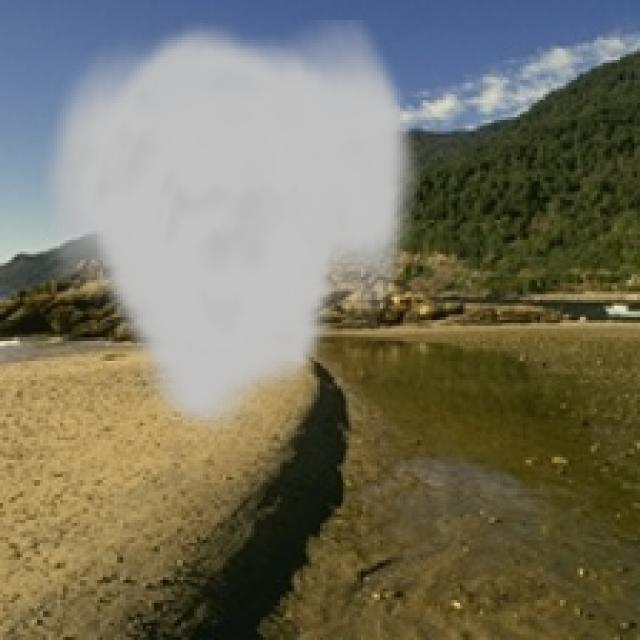Smoke: (34, 20, 420, 437)
